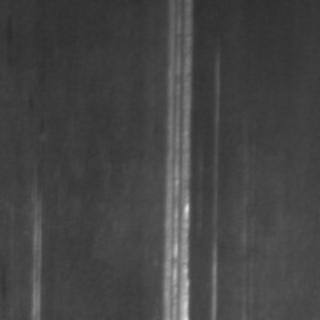scratches: (154, 0, 196, 316), (22, 180, 48, 318)
